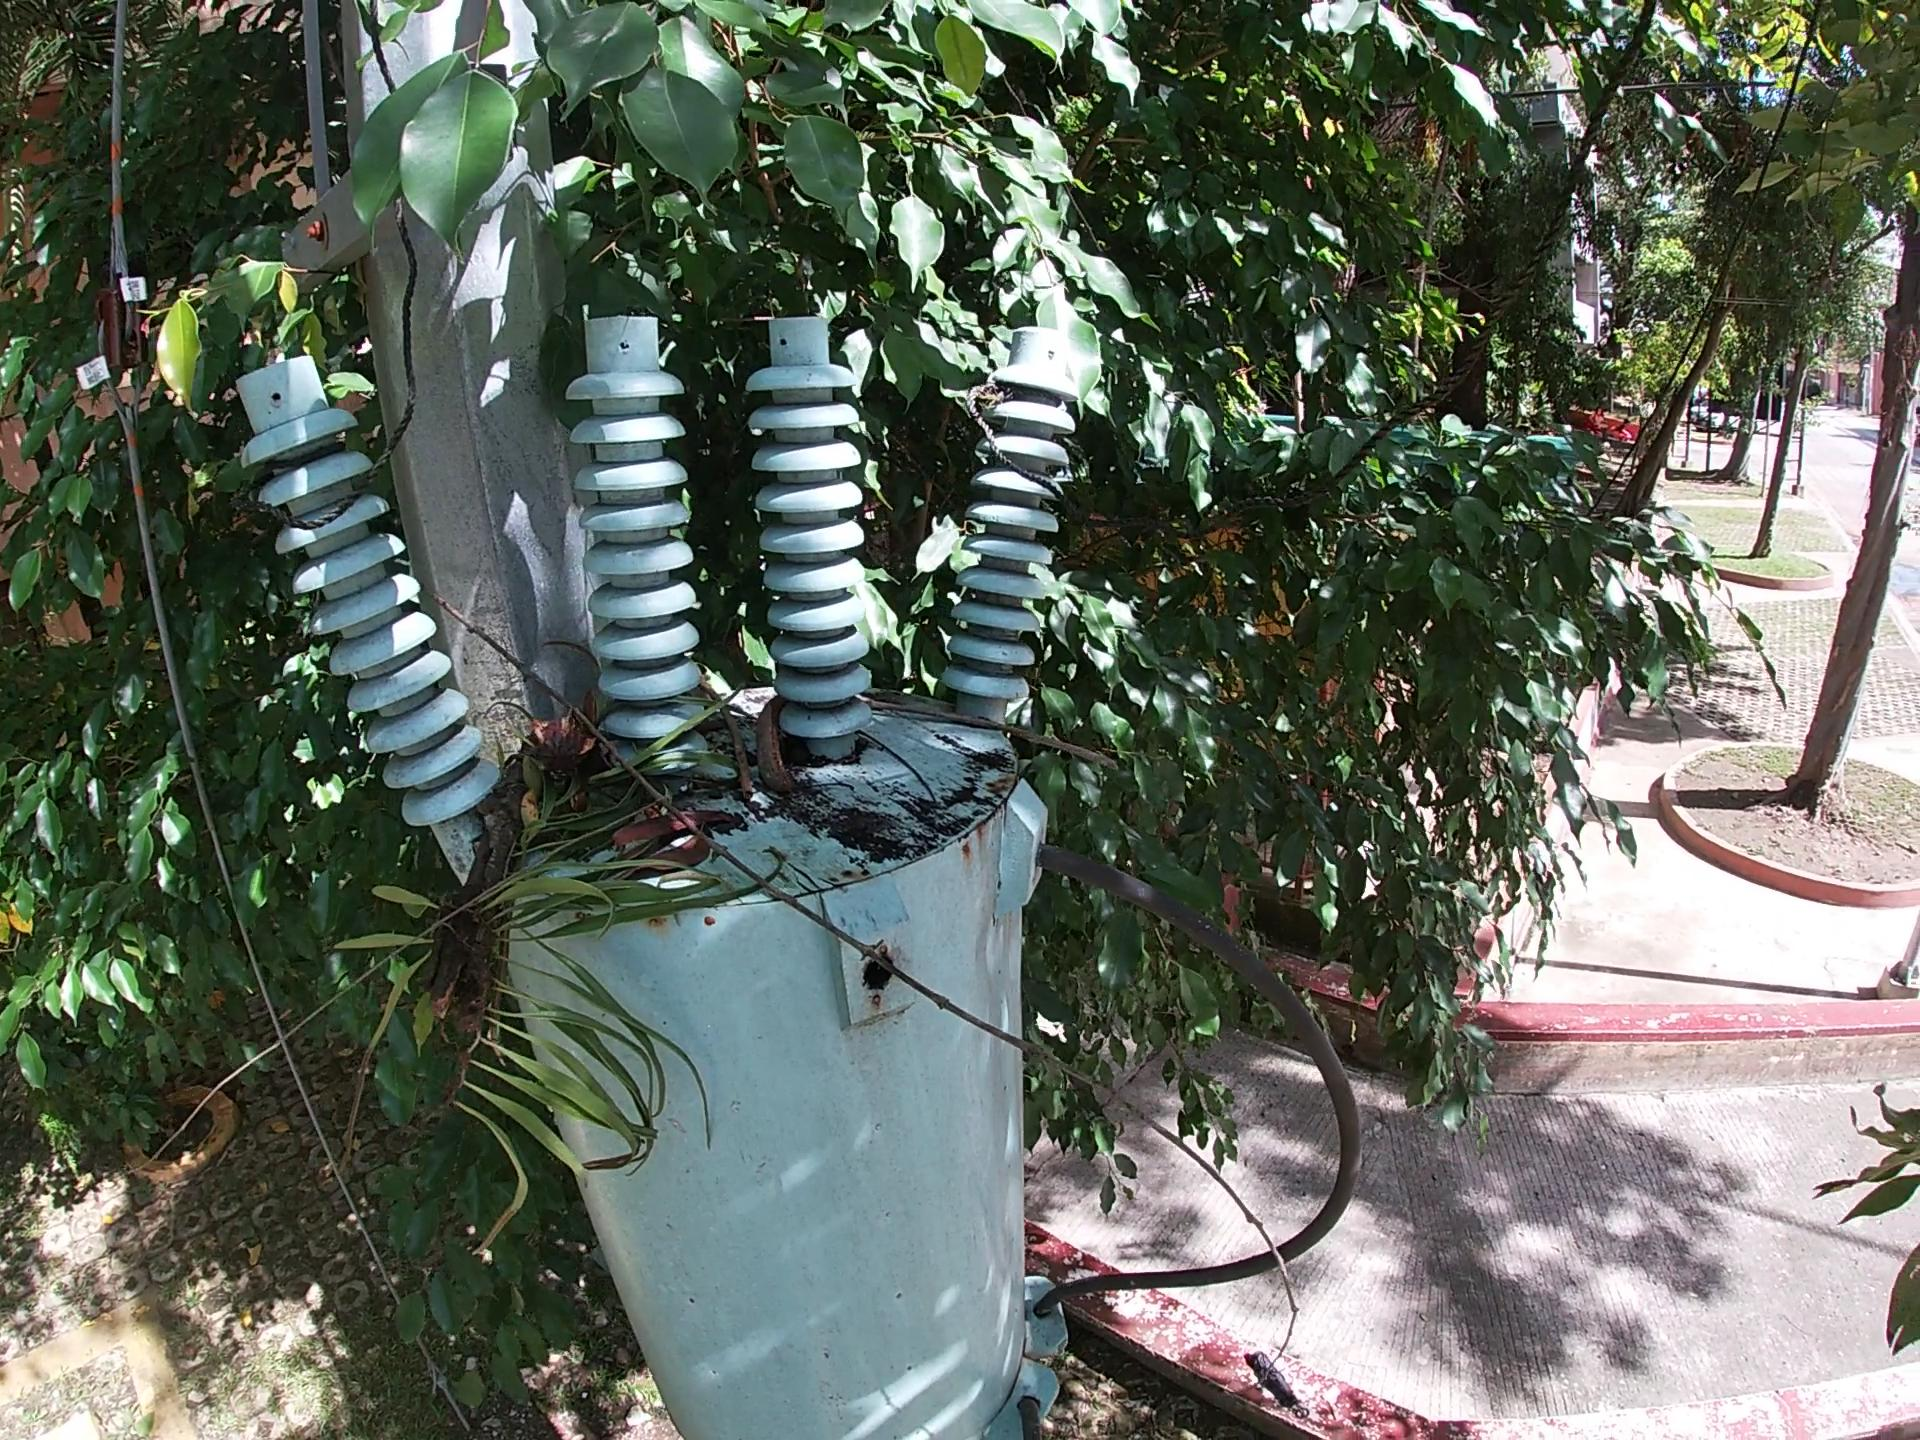branch with leaves: (452, 557, 685, 1141)
leaf: (571, 815, 900, 1113)
mahogany fruit: (665, 641, 845, 809), (481, 650, 641, 835)
tree branch: (443, 611, 1341, 1345), (874, 687, 1170, 793), (692, 625, 754, 800)
